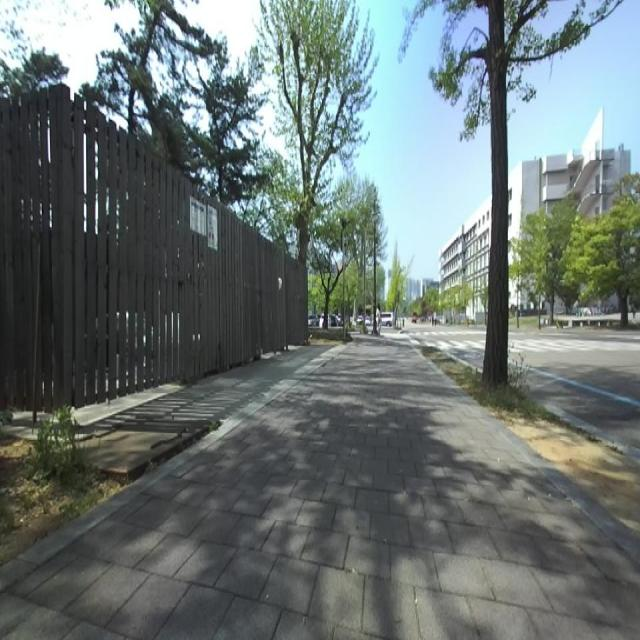sidewalk: (0, 332, 640, 639)
